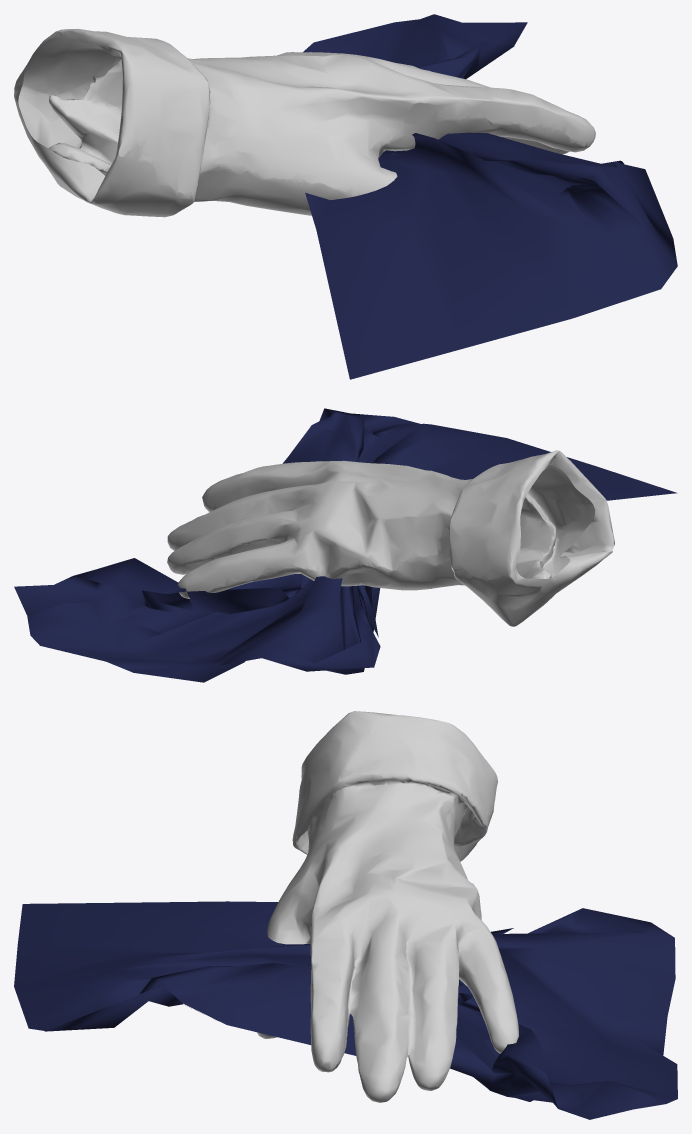
Rendered from rag2.gltf.
The picture shows the model from 3 angles, top to bottom: view 1: azimuth 30°, elevation 25°; view 2: azimuth 150°, elevation 25°; view 3: azimuth 270°, elevation 25°; orthographic projection. The views are drawn at different scales.
Parts seen in each view (by area): view 1: cloth_04, Mesh; view 2: Mesh, cloth_04; view 3: cloth_04, Mesh.
Boxes of the visible parts, bbox=[...] form: cloth_04: bbox=[303, 14, 677, 379]; Mesh: bbox=[14, 29, 595, 217]; Mesh: bbox=[167, 450, 614, 626]; cloth_04: bbox=[14, 408, 677, 682]; cloth_04: bbox=[14, 901, 677, 1119]; Mesh: bbox=[257, 711, 518, 1102].
Size of the model in its own units: 1.78 by 0.7155 by 1.97.
